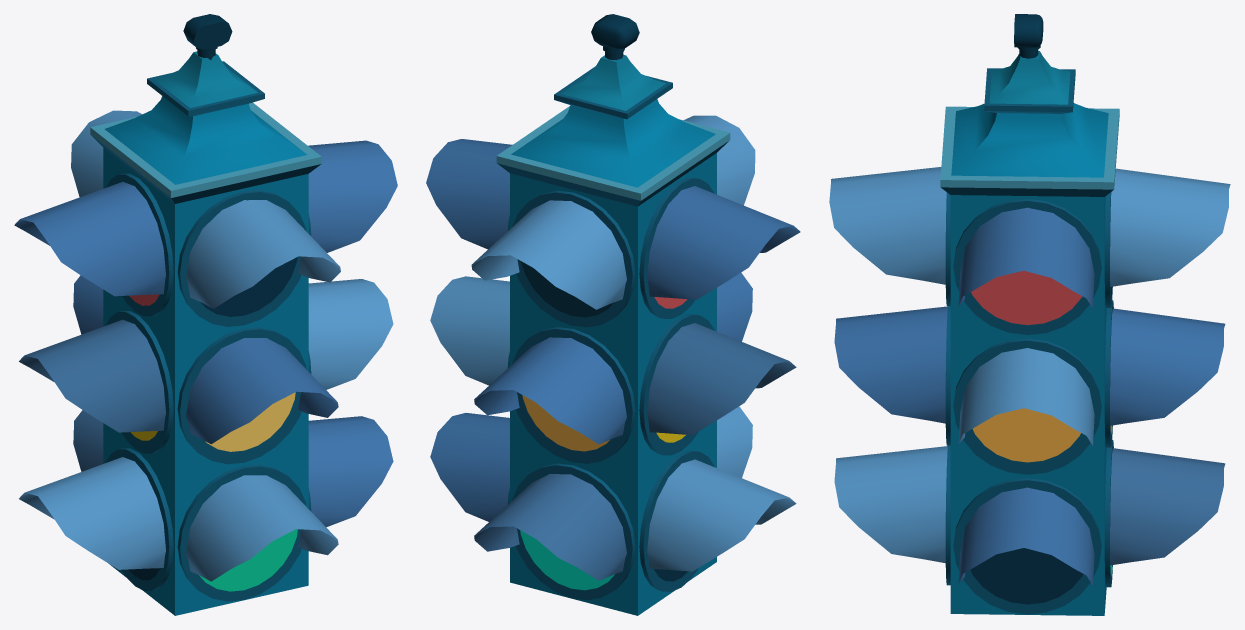
File: traffic_lights.glb
3 views of the same model, side by side, from view 1: azimuth 30°, elevation 25°; view 2: azimuth 150°, elevation 25°; view 3: azimuth 270°, elevation 25° (orthographic). The views are drawn at different scales.
Visible parts, largest first — view 1: traffic lights; view 2: traffic lights; view 3: traffic lights.
Part boxes in pixels (x1=…): traffic lights: x1=14, y1=14, x2=397, y2=615; traffic lights: x1=426, y1=14, x2=800, y2=615; traffic lights: x1=829, y1=14, x2=1230, y2=615.
Size of the model in its own units: 1.53 by 2.37 by 1.53.
1 material, 1 textured.
